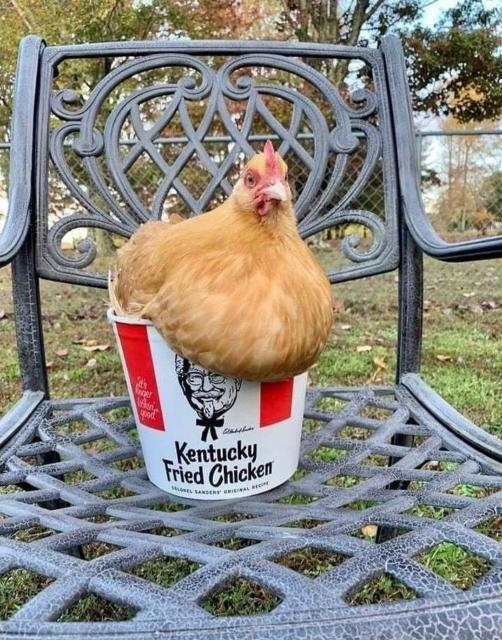Chicken: (107, 137, 339, 386)
